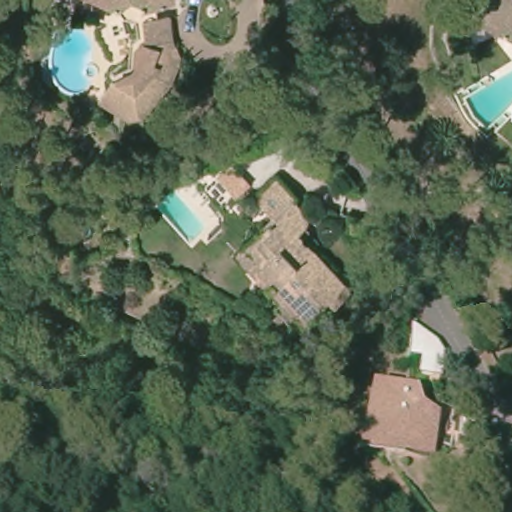pool: (45, 21, 104, 96), (462, 65, 511, 134), (151, 187, 205, 248)
